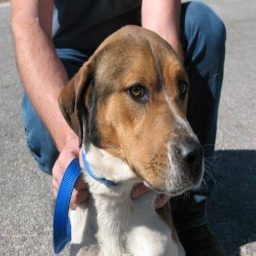dog: (57, 21, 206, 256)
